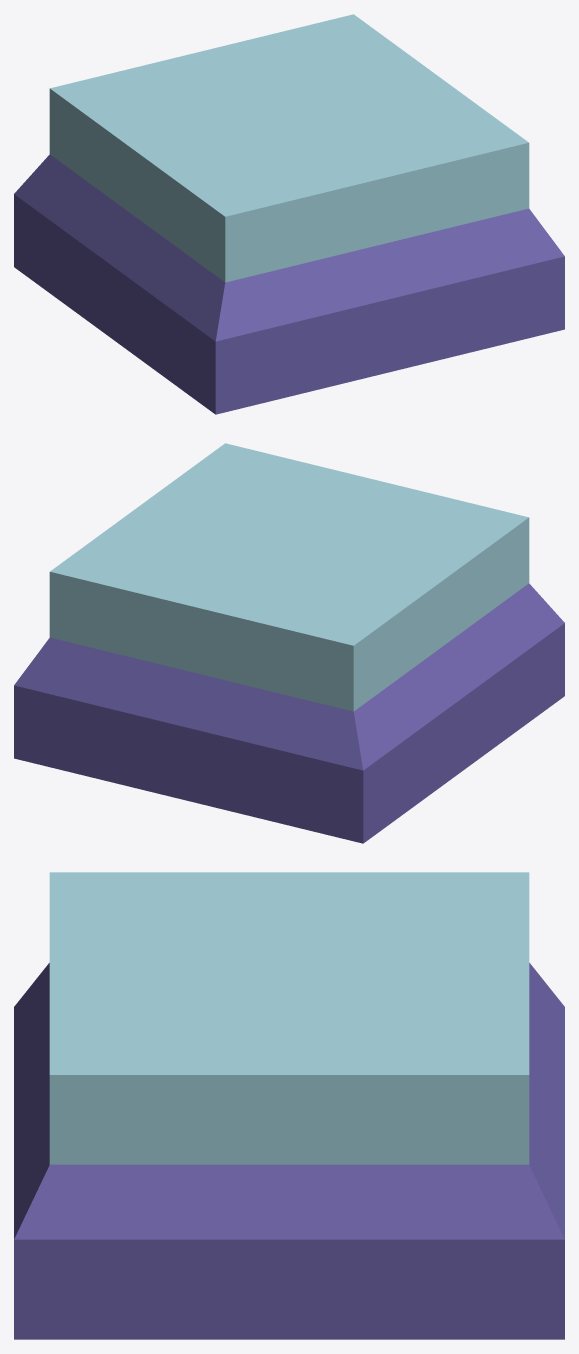
Rendered from towerSquare_bottomA.dae.
3 renders of one model, top to bottom at view 1: azimuth 30°, elevation 25°; view 2: azimuth 150°, elevation 25°; view 3: azimuth 270°, elevation 25°, orthographic. The views are drawn at different scales.
Visible parts, largest first — view 1: towerSquare_bottomA; view 2: towerSquare_bottomA; view 3: towerSquare_bottomA.
Boxes of the visible parts, x1=… form: towerSquare_bottomA: x1=14, y1=14, x2=564, y2=414; towerSquare_bottomA: x1=14, y1=443, x2=564, y2=843; towerSquare_bottomA: x1=14, y1=872, x2=564, y2=1339.
Bounding box in the file's own units: 1 × 0.5 × 1.
